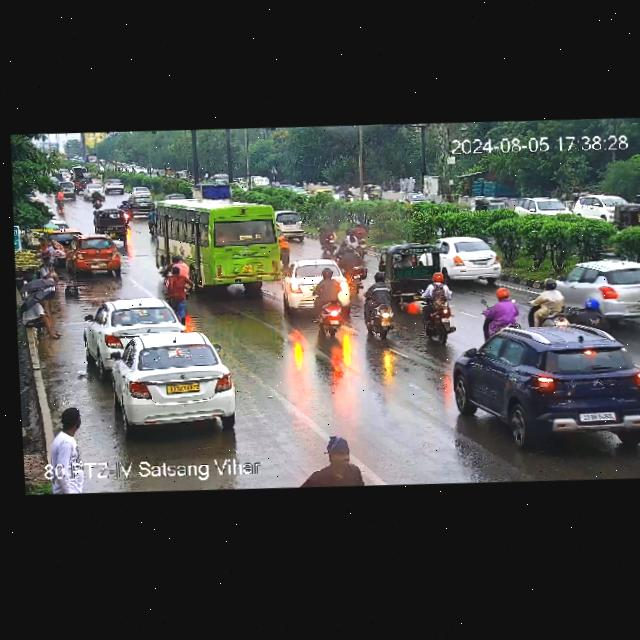bus: (143, 191, 287, 293)
car: (447, 318, 640, 444), (107, 327, 236, 429), (82, 294, 182, 357), (560, 256, 640, 325), (438, 233, 507, 282), (382, 244, 441, 294), (65, 234, 120, 275), (282, 255, 316, 309), (90, 206, 128, 235), (275, 210, 307, 240), (470, 196, 510, 218), (614, 200, 640, 229), (615, 202, 640, 231), (130, 193, 152, 213), (101, 179, 127, 194)
motorcycle: (413, 271, 459, 344), (362, 266, 398, 344), (477, 282, 521, 337), (311, 266, 344, 338), (524, 270, 563, 326), (148, 205, 156, 235), (55, 188, 64, 211), (122, 200, 131, 219), (92, 189, 101, 207)
person: (303, 434, 363, 489), (48, 406, 97, 460), (19, 295, 66, 341), (167, 268, 191, 322), (41, 257, 59, 310), (172, 255, 190, 279), (44, 239, 55, 256), (39, 237, 45, 255)
truck: (196, 178, 237, 202)
